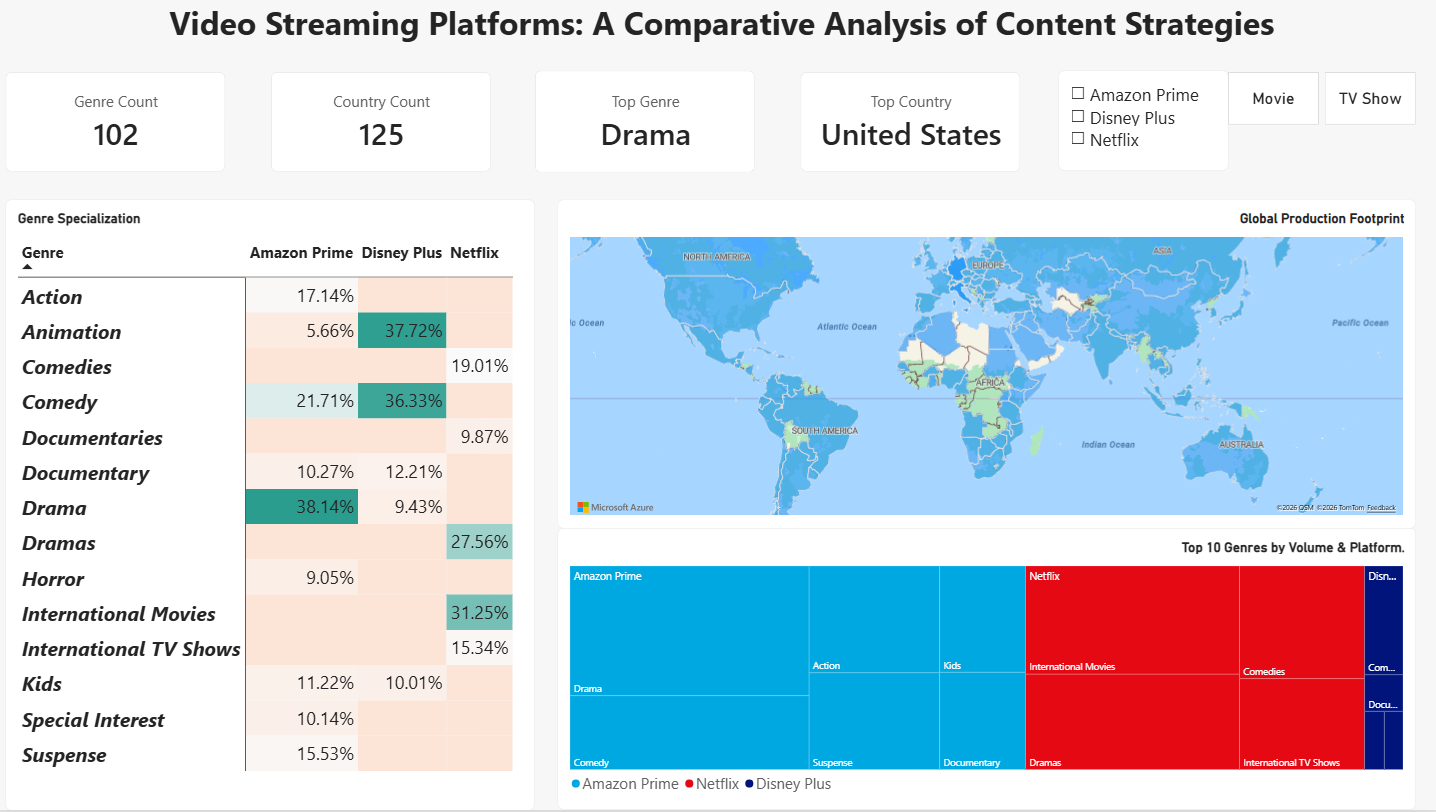

This screenshot's page, from the dashboard's own definition file:
{"tool":"powerbi","page":{"name":"Genre and geography","canvas":[1920,1080],"ordinal":1},"visuals":[{"type":"listSlicer","fields":{"Values":["Data.source"]},"box":[1413.3,93.3,226.7,133.3],"z":0},{"type":"advancedSlicerVisual","fields":{"Values":["Data.type"]},"box":[1640,95,250,70],"z":1000},{"type":"textbox","box":[10,0,1910,63.3],"z":2000},{"type":"cardVisual","fields":{"Data":["Data.Genre Count"]},"box":[10,96.7,293.3,133.3],"z":3000},{"type":"cardVisual","fields":{"Data":["Data.Country Count"]},"box":[363.3,96.7,293.3,133.3],"z":4000},{"type":"cardVisual","fields":{"Data":["Data.Top Genre"]},"box":[716.7,93.3,293.3,136.7],"z":5000},{"type":"cardVisual","fields":{"Data":["Data.Top Country"]},"box":[1070,96.7,293.3,133.3],"z":6000},{"type":"pivotTable","title":"Genre Specialization ","fields":{"Columns":["Data.source"],"Rows":["Genre-Map.Genre"],"Values":["Data.Genre % of Platform"]},"box":[10.2,265.8,705.5,814.6],"z":7000},{"type":"azureMap","title":"Global Production Footprint","fields":{"Category":["Country-Map.Country"]},"box":[745.6,265.2,1144.7,438.4],"z":8000},{"type":"treemap","title":"Top 10 Genres by Volume & Platform.","fields":{"Details":["Genre-Map.Genre"],"Group":["Data.source"],"Values":["Data.Total Titles"]},"box":[745.6,703.6,1144.7,375.4],"z":9000}]}

Visuals, with their boxes in screenshot pixels (x1, y1, x2, y2), scaled from the page's 1920x1080 canvas onto the 1436x812 screenshot:
listSlicer - Data.source: box(1057, 70, 1227, 170)
advancedSlicerVisual - Data.type: box(1227, 71, 1414, 124)
textbox: box(7, 0, 1435, 48)
cardVisual - Data.Genre Count: box(7, 73, 227, 173)
cardVisual - Data.Country Count: box(272, 73, 491, 173)
cardVisual - Data.Top Genre: box(536, 70, 755, 173)
cardVisual - Data.Top Country: box(800, 73, 1020, 173)
"Genre Specialization " pivotTable: box(8, 200, 535, 811)
"Global Production Footprint" azureMap: box(558, 199, 1414, 529)
"Top 10 Genres by Volume & Platform." treemap: box(558, 529, 1414, 811)
